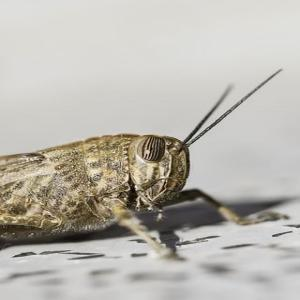locust: (1, 81, 262, 254)
